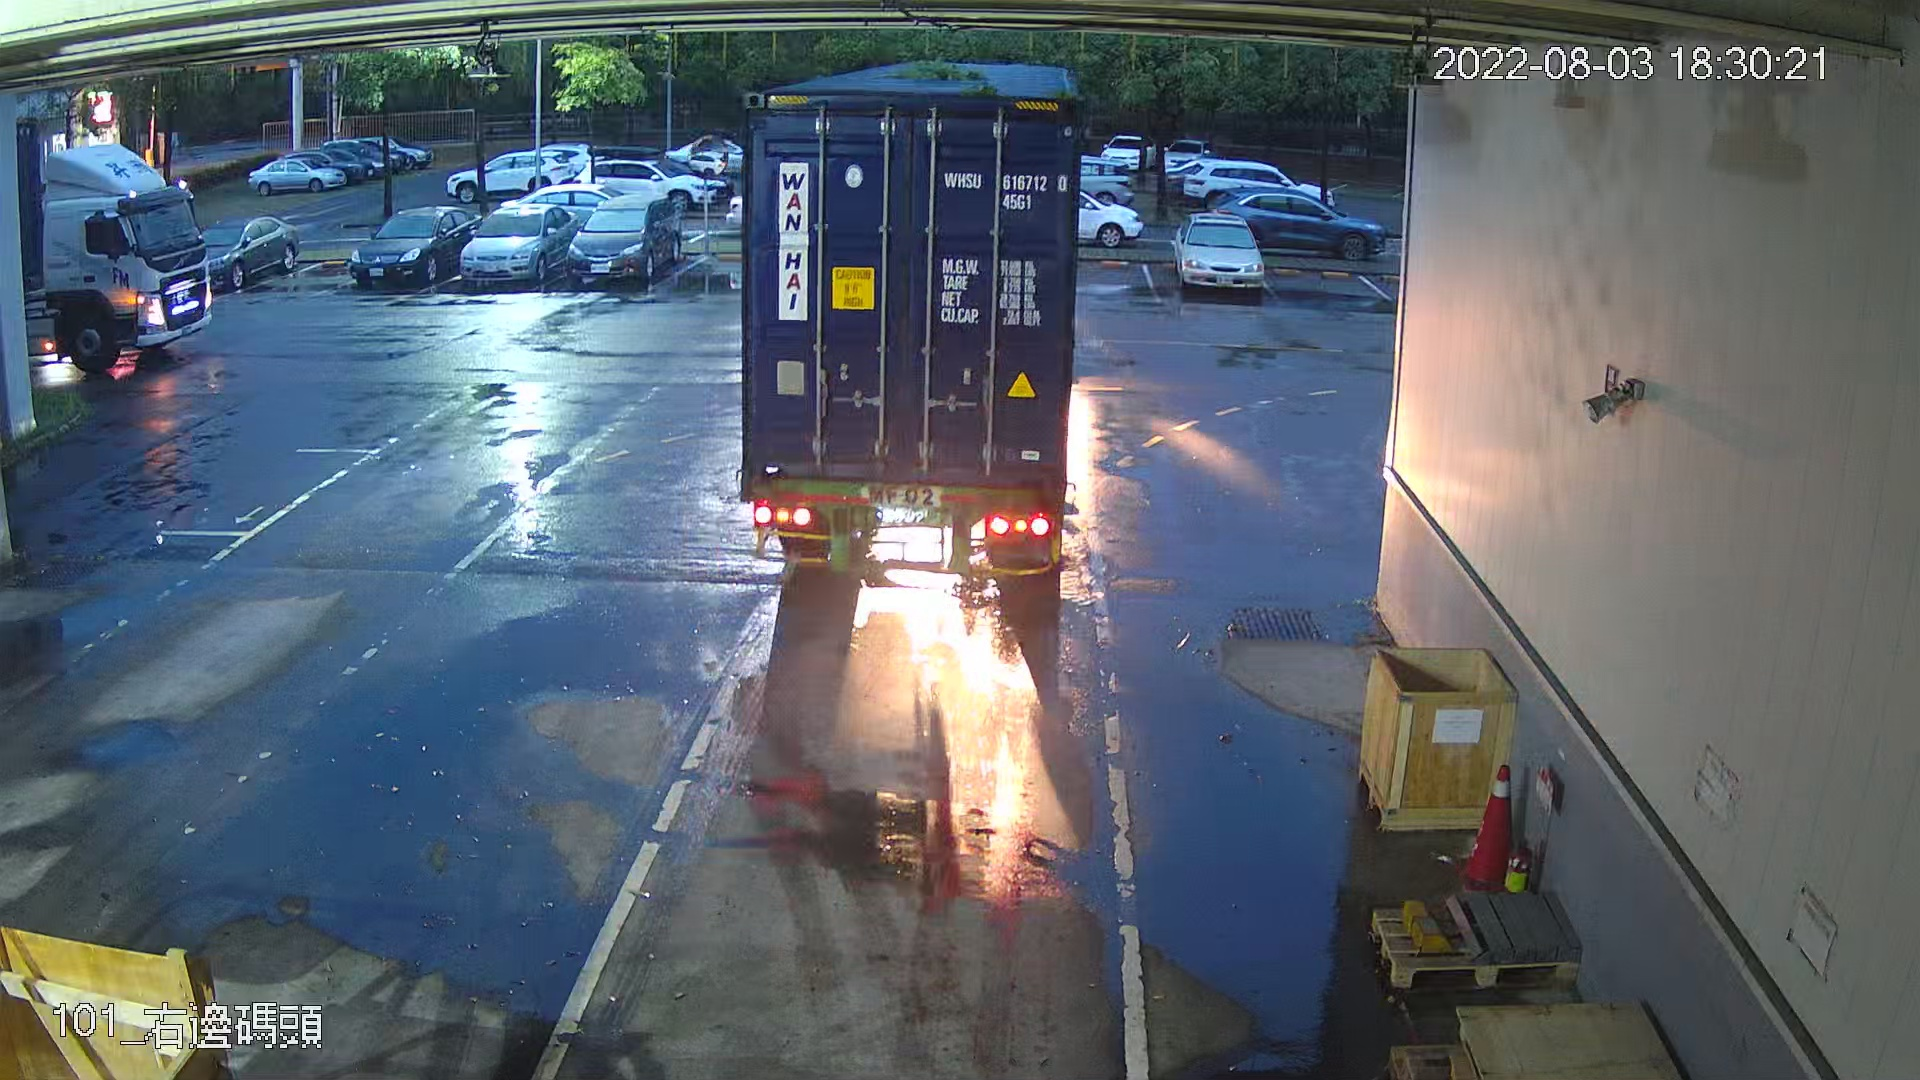container: (938, 164, 1072, 220)
